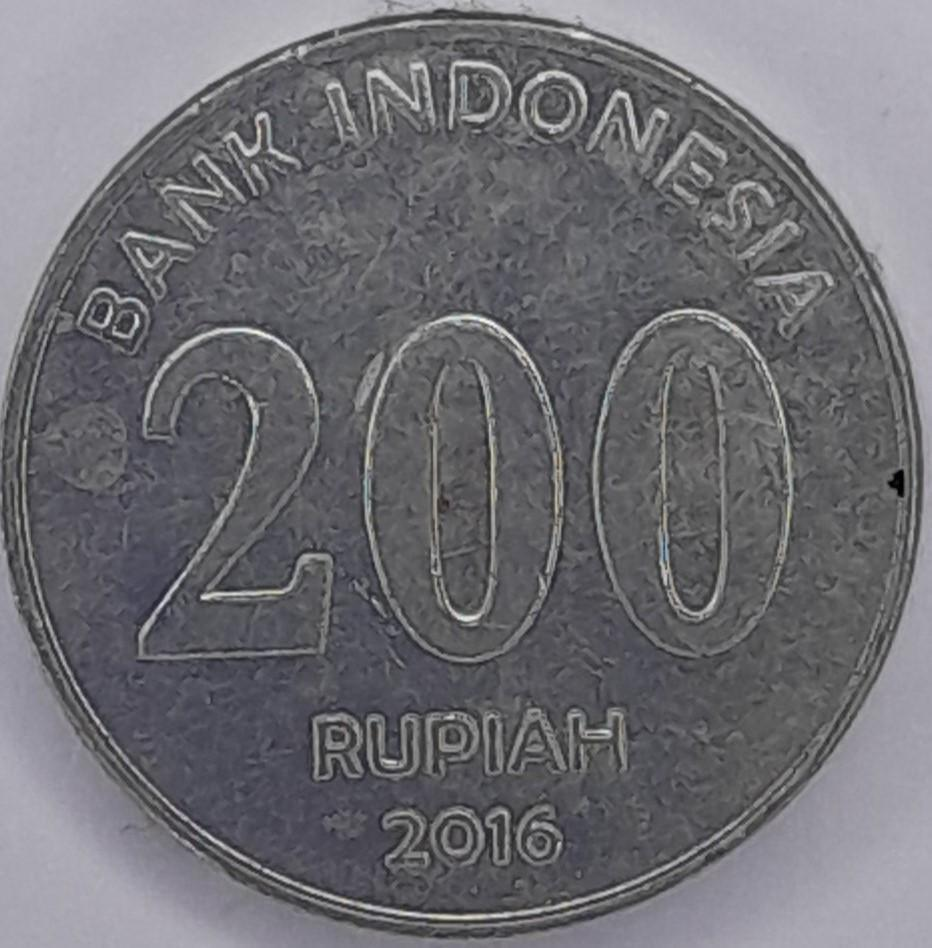coin_200_e2016: (0, 16, 932, 948)
